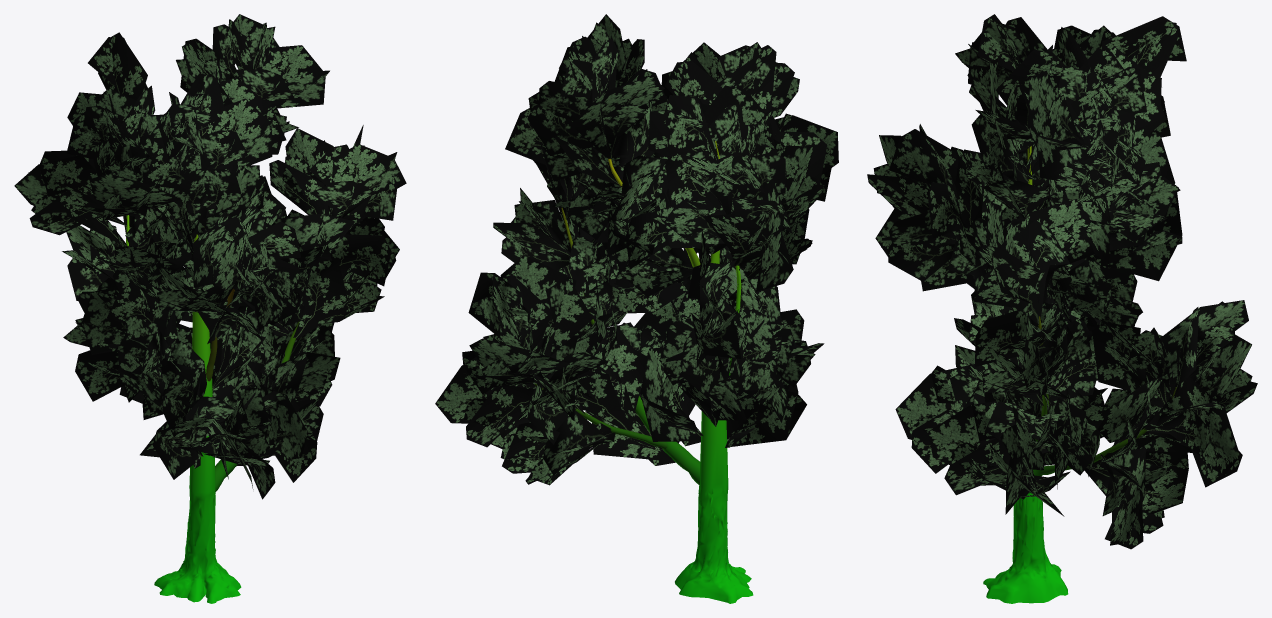
File: Maple_A.fbx
3 renders of one model, left to right at view 1: azimuth 30°, elevation 25°; view 2: azimuth 150°, elevation 25°; view 3: azimuth 270°, elevation 25°, orthographic. The views are drawn at different scales.
Parts seen in each view (by area): view 1: Maple_A_LOD0; view 2: Maple_A_LOD0; view 3: Maple_A_LOD0.
Part boxes in pixels (<box>): Maple_A_LOD0: <box>14,14,406,603</box>; Maple_A_LOD0: <box>435,14,838,603</box>; Maple_A_LOD0: <box>867,14,1257,603</box>.
Size of what is drawn, in the model's own units: 9.58 by 15 by 9.27.
